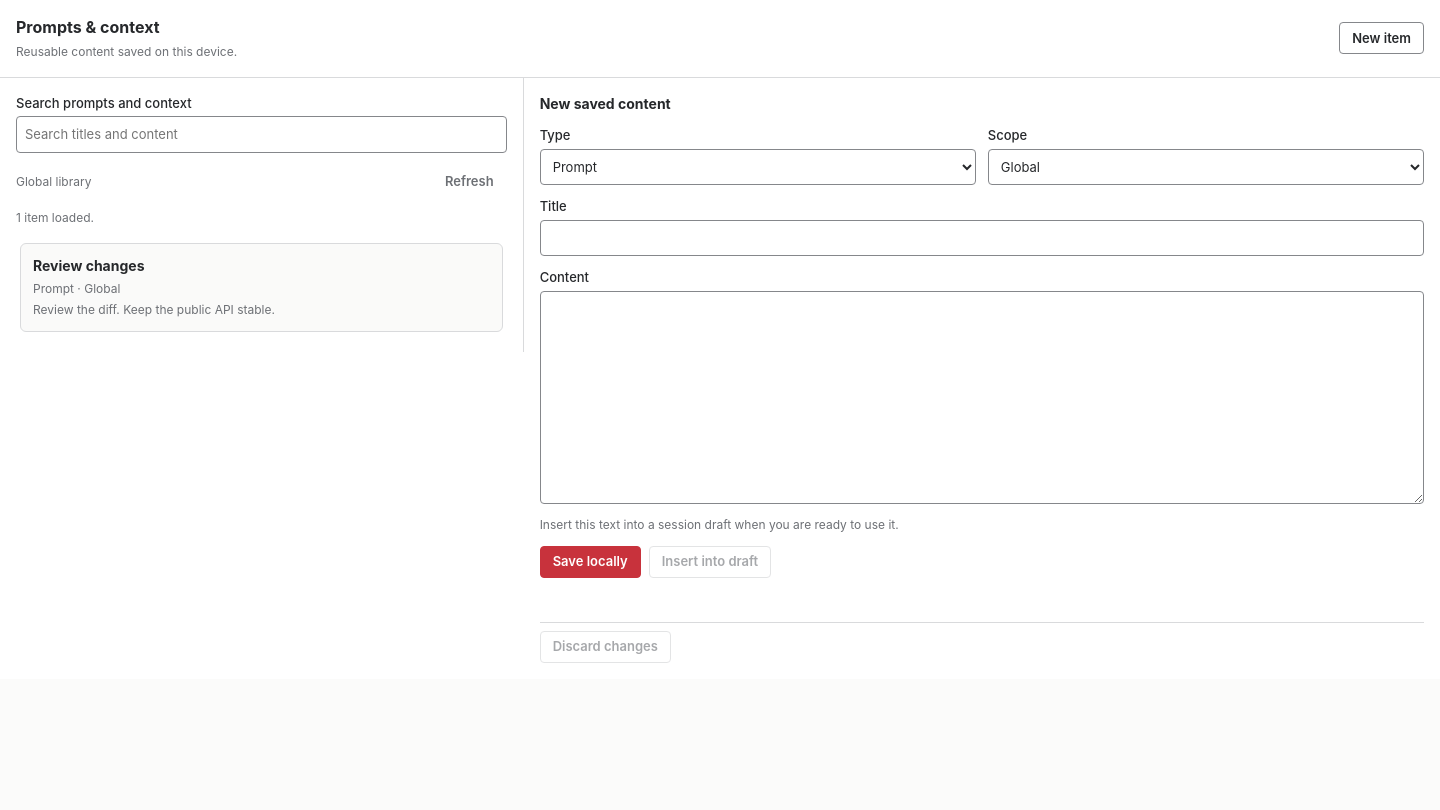
Test: KnowledgePanel › does not replace a successful save with an older refresh response
Click the button "Review changes" at [89, 265], box x1=20 y1=243 x2=503 y2=332
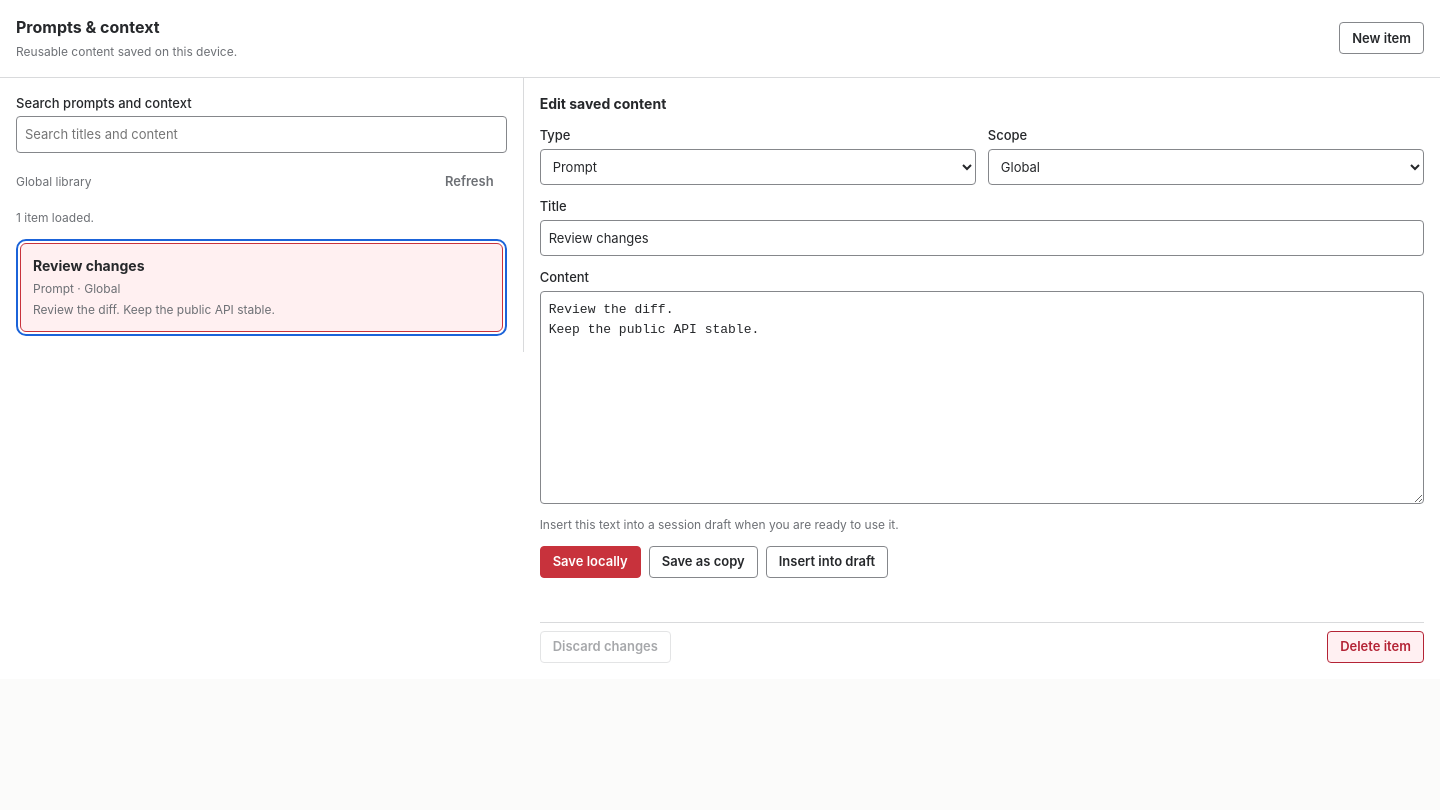
Replace the text in the field labelled "Title" with "Updated title" at [982, 238], box x1=540 y1=220 x2=1424 y2=256
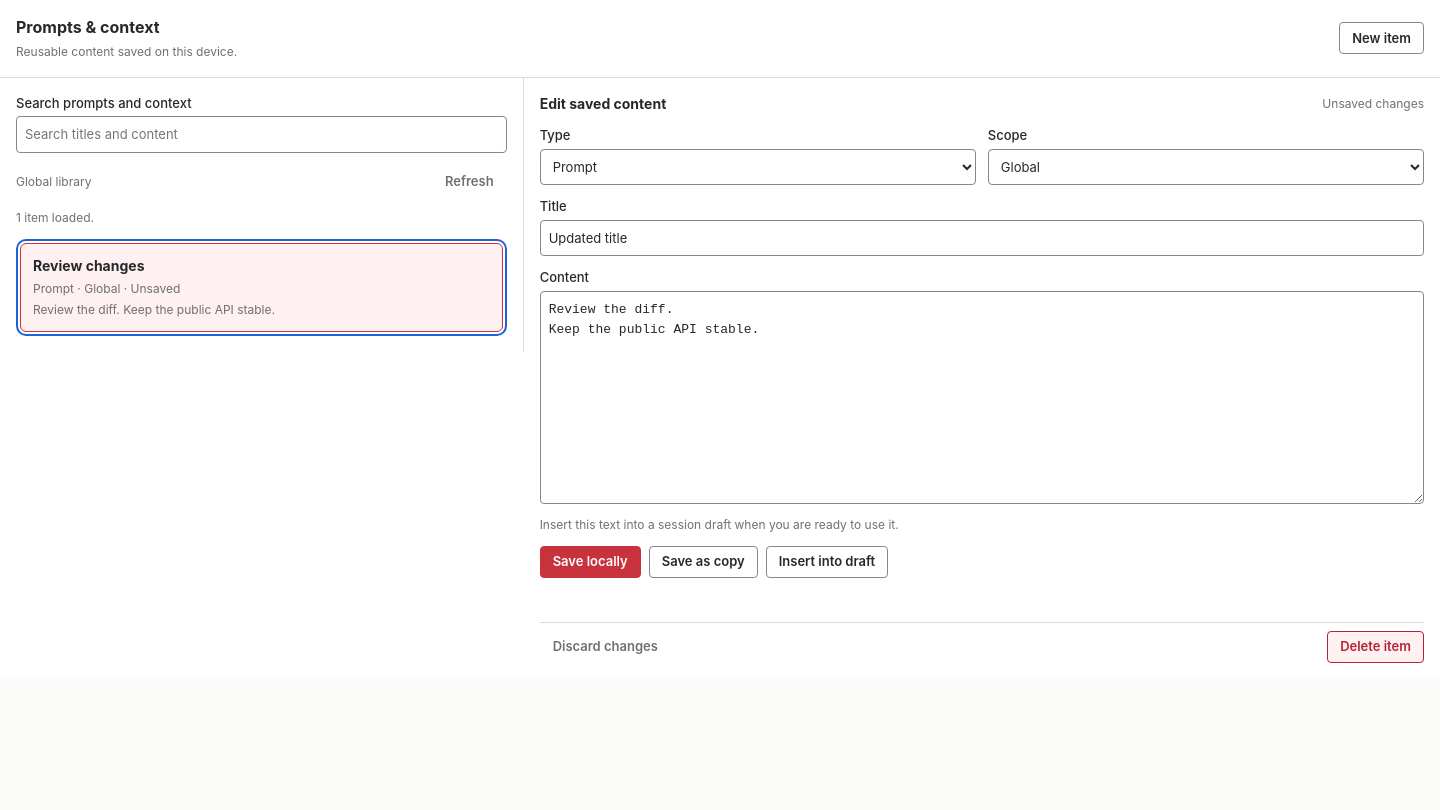
Click the button "Refresh" at [469, 181], box x1=432 y1=165 x2=507 y2=197
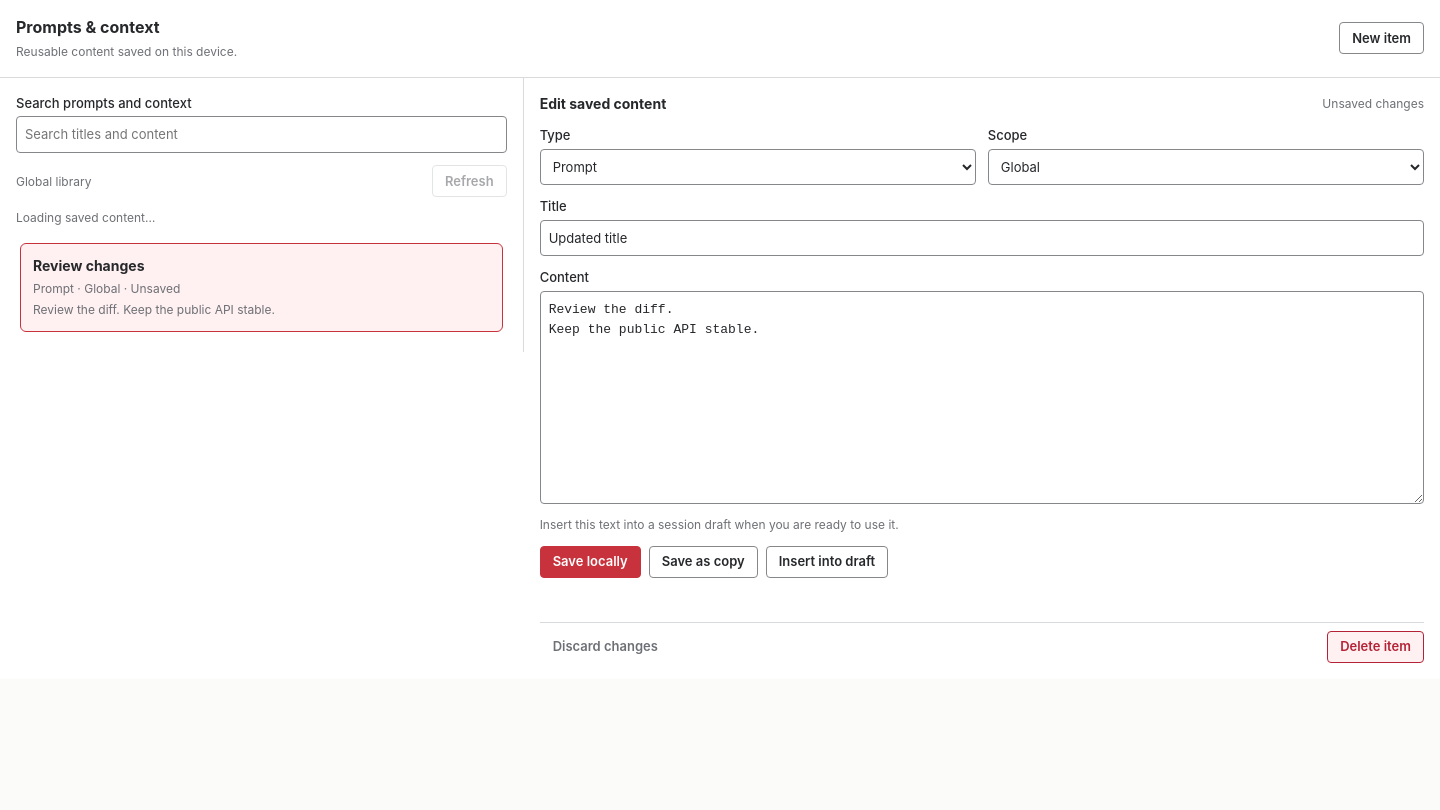
Click the button "Save locally" at [590, 562], box x1=540 y1=546 x2=641 y2=578
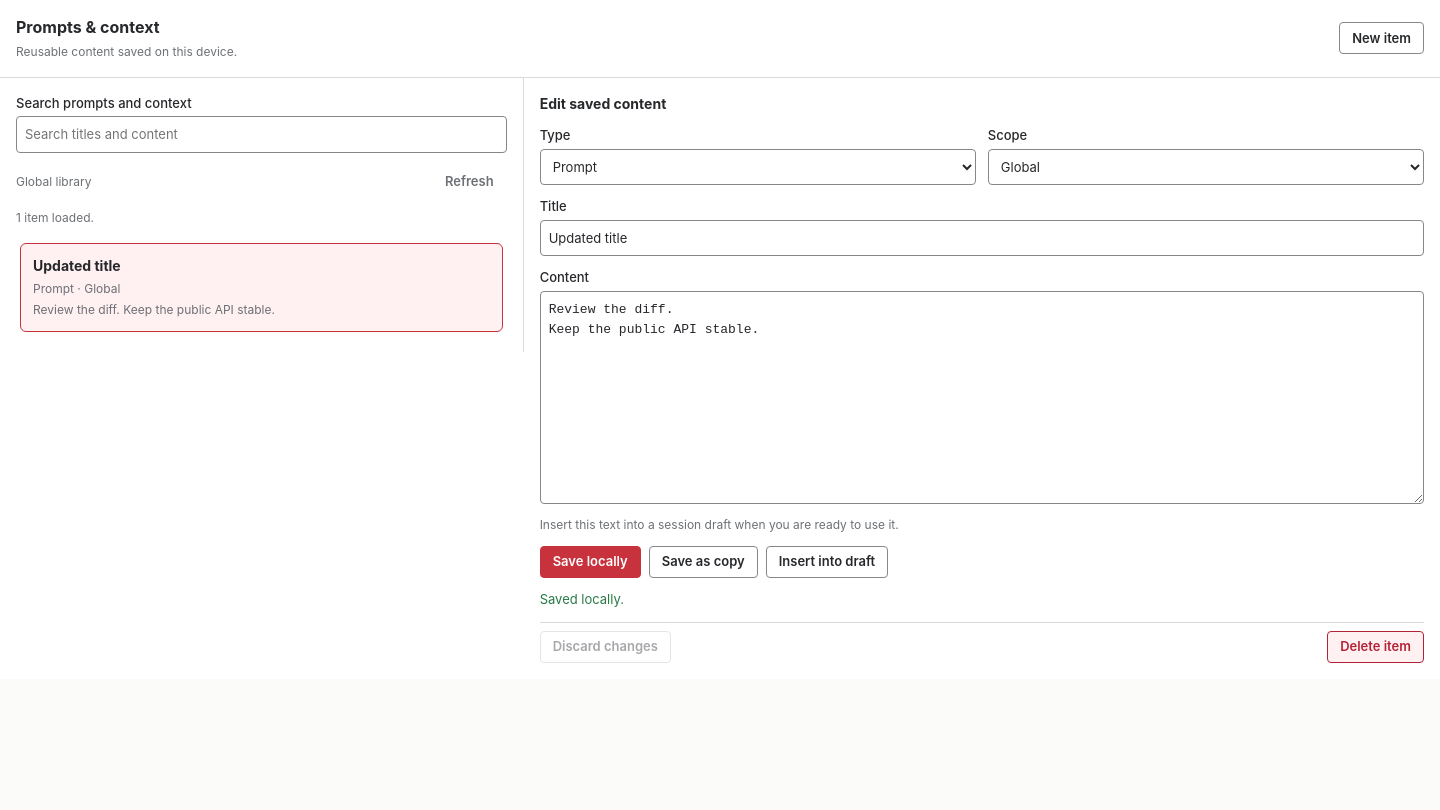
expect the button "Updated title" is shown: met, box x1=20 y1=243 x2=503 y2=332
expect the button "Review changes" is gone: met
